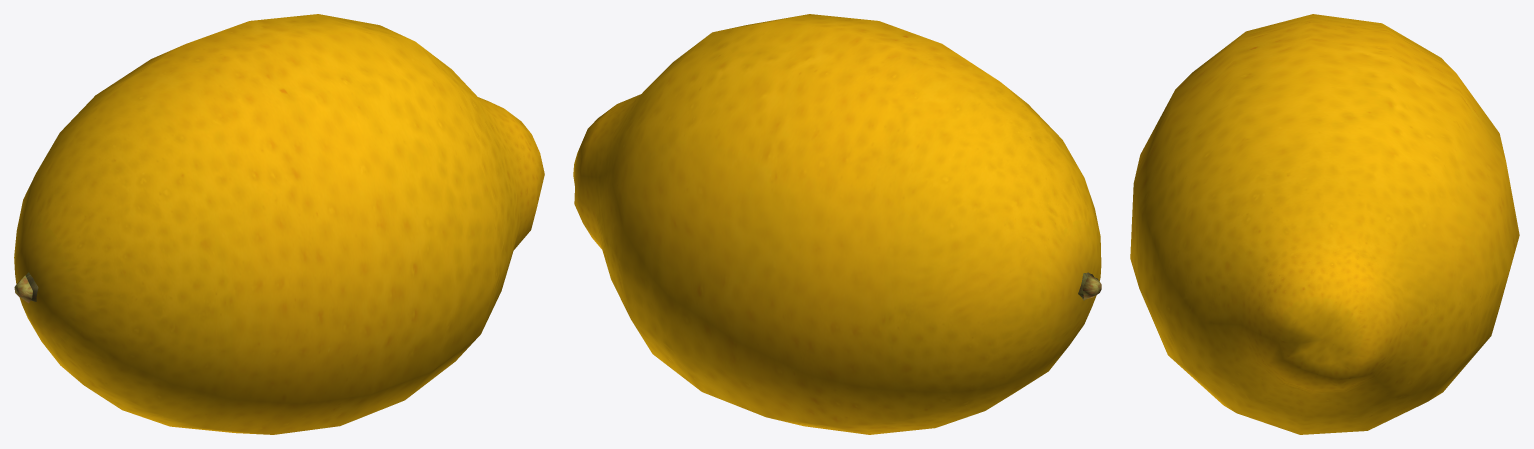
File: Lemon.fbx
3 views of the same model, side by side, from view 1: azimuth 30°, elevation 25°; view 2: azimuth 150°, elevation 25°; view 3: azimuth 270°, elevation 25° (orthographic). The views are drawn at different scales.
Visible parts, largest first — view 1: Default_Layer; view 2: Default_Layer; view 3: Default_Layer.
Boxes of the visible parts, bbox=[...] form: Default_Layer: bbox=[14, 14, 544, 434]; Default_Layer: bbox=[573, 14, 1101, 434]; Default_Layer: bbox=[1130, 14, 1519, 434].
Bounding box in the file's own units: 23.47 × 16.5 × 16.18.
